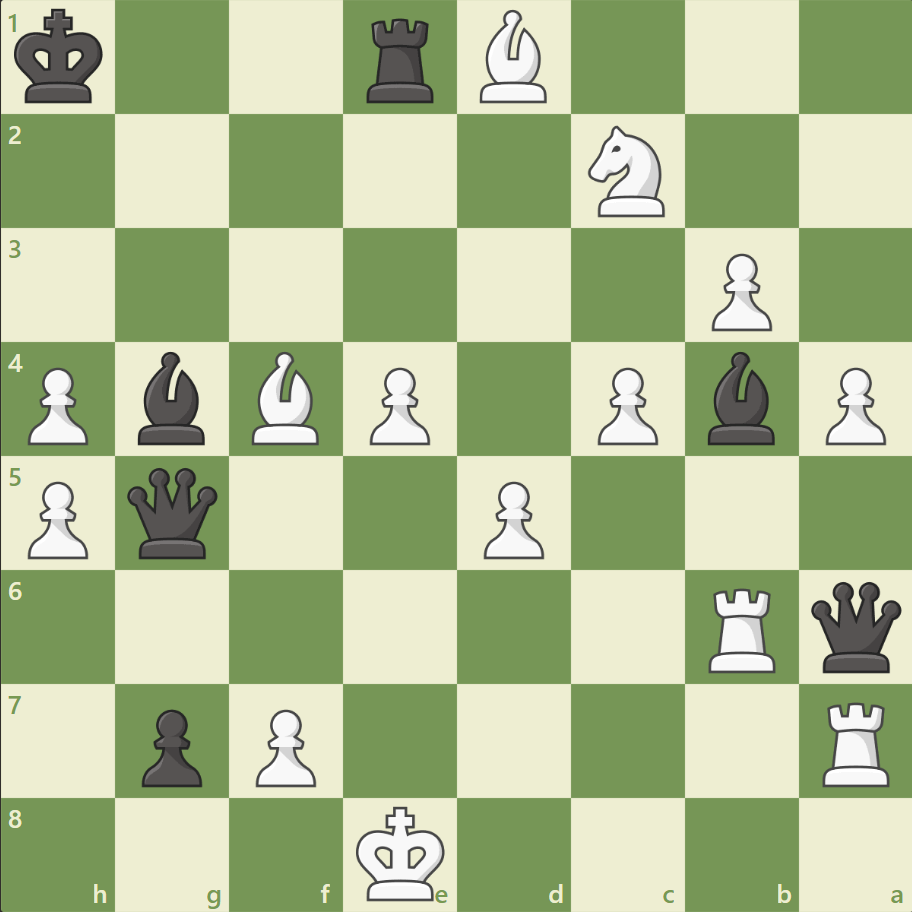B: (471, 6, 555, 109), (244, 347, 328, 449)
K: (351, 798, 451, 906)
N: (579, 121, 676, 223)
P: (247, 700, 322, 791), (474, 473, 549, 564), (20, 473, 95, 564), (20, 359, 95, 450), (701, 246, 776, 337), (815, 359, 889, 450), (588, 359, 662, 450), (361, 359, 435, 450)
R: (814, 693, 897, 790), (700, 579, 783, 676)
b: (698, 347, 782, 449), (131, 347, 215, 449)
k: (11, 4, 111, 112)
p: (133, 700, 208, 791)
q: (805, 576, 904, 676), (124, 463, 223, 562)
r: (360, 12, 442, 109)
